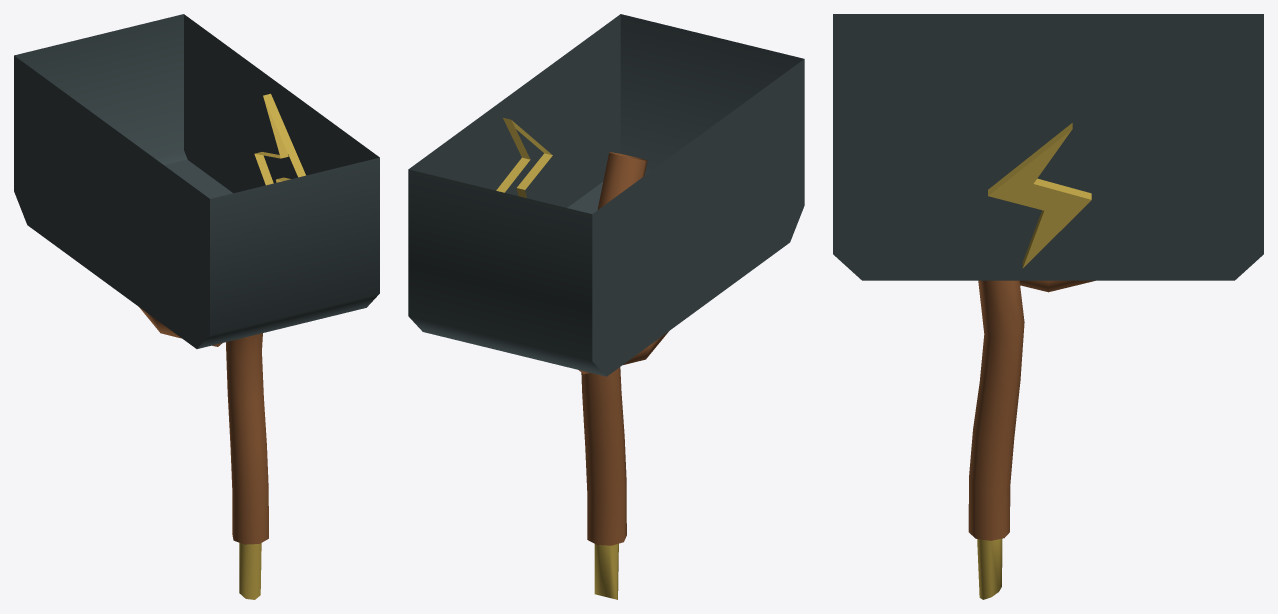
The model's file is Space_Trap_01.fbx.
3 views of the same model, side by side, from view 1: azimuth 30°, elevation 25°; view 2: azimuth 150°, elevation 25°; view 3: azimuth 270°, elevation 25° (orthographic). The views are drawn at different scales.
Visible parts, largest first — view 1: Circle.005; view 2: Circle.005; view 3: Circle.005.
Part boxes in pixels (x1,y1,x2,y2): Circle.005: (14,14,379,599); Circle.005: (408,14,804,599); Circle.005: (833,14,1263,599).
Size of the model in its own units: 1.07 by 2.68 by 2.
